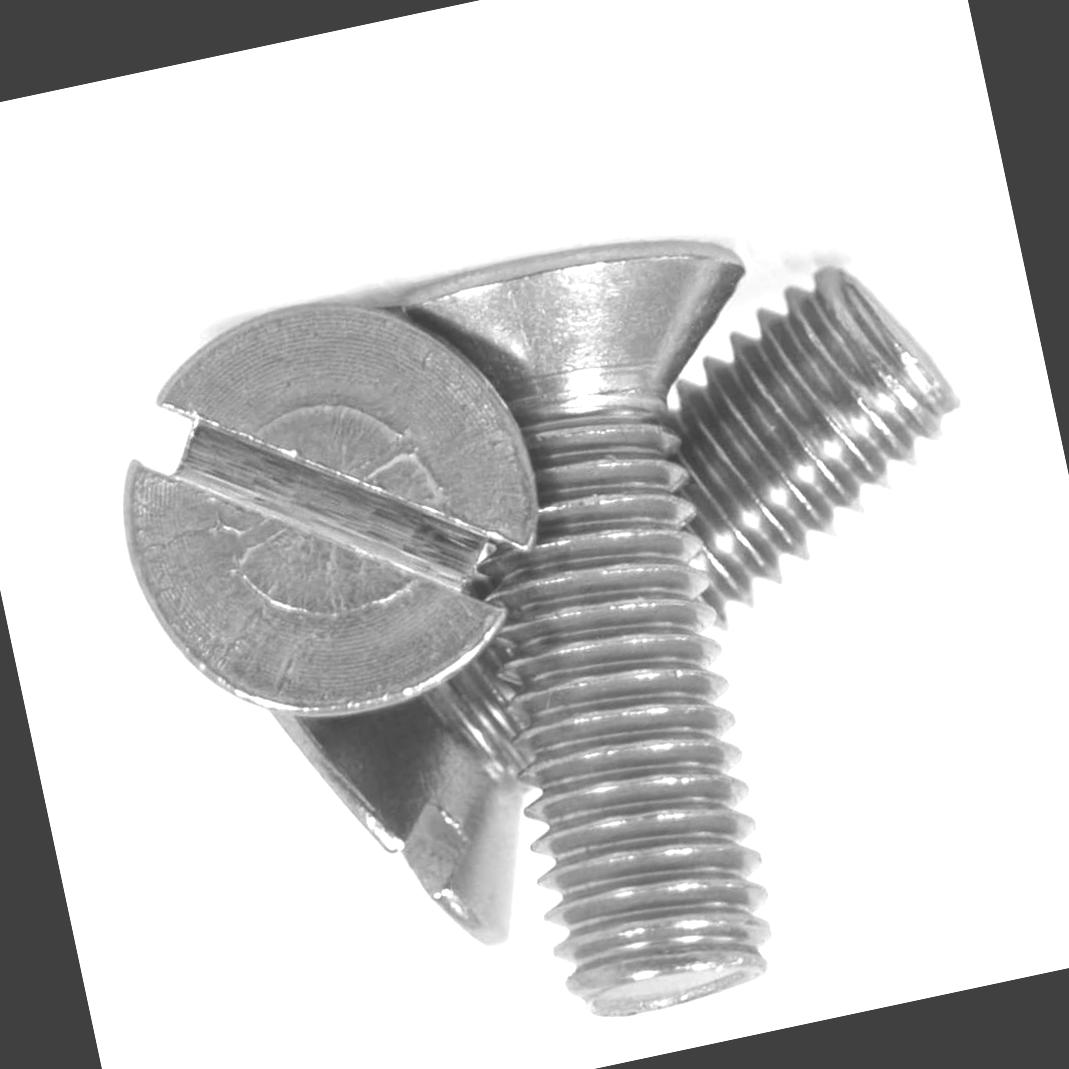slotted: (86, 266, 582, 746)
